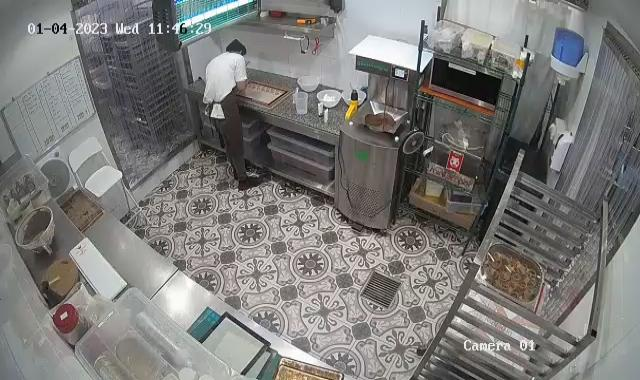no_hairnet: (226, 38, 249, 57)
